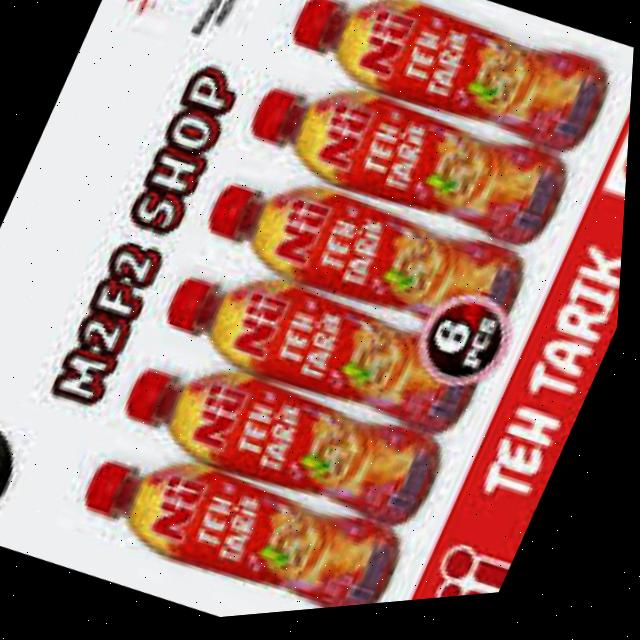sise: (132, 217, 515, 480), (91, 316, 475, 569), (225, 36, 588, 289), (179, 126, 545, 376), (50, 404, 435, 634), (259, 0, 640, 202)
